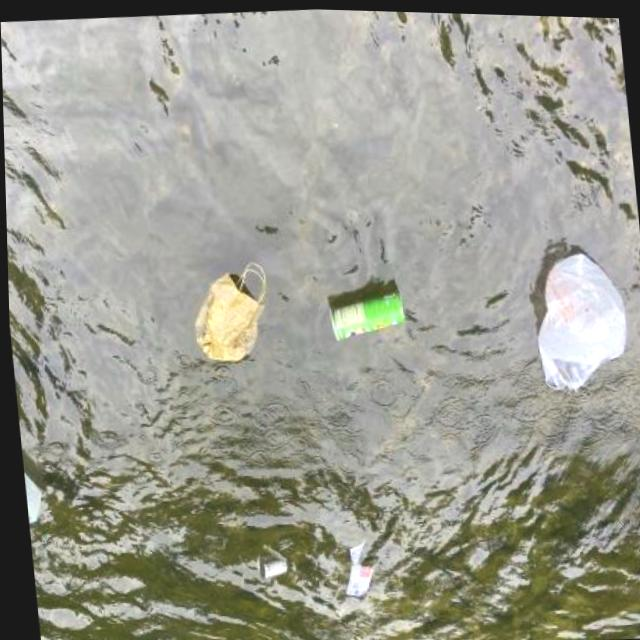Can-Metal: (320, 280, 410, 346), (246, 541, 288, 585)
Cardboard: (20, 458, 51, 536)
Paper: (182, 252, 275, 368)
Plastic: (522, 229, 634, 400), (333, 534, 372, 599)
